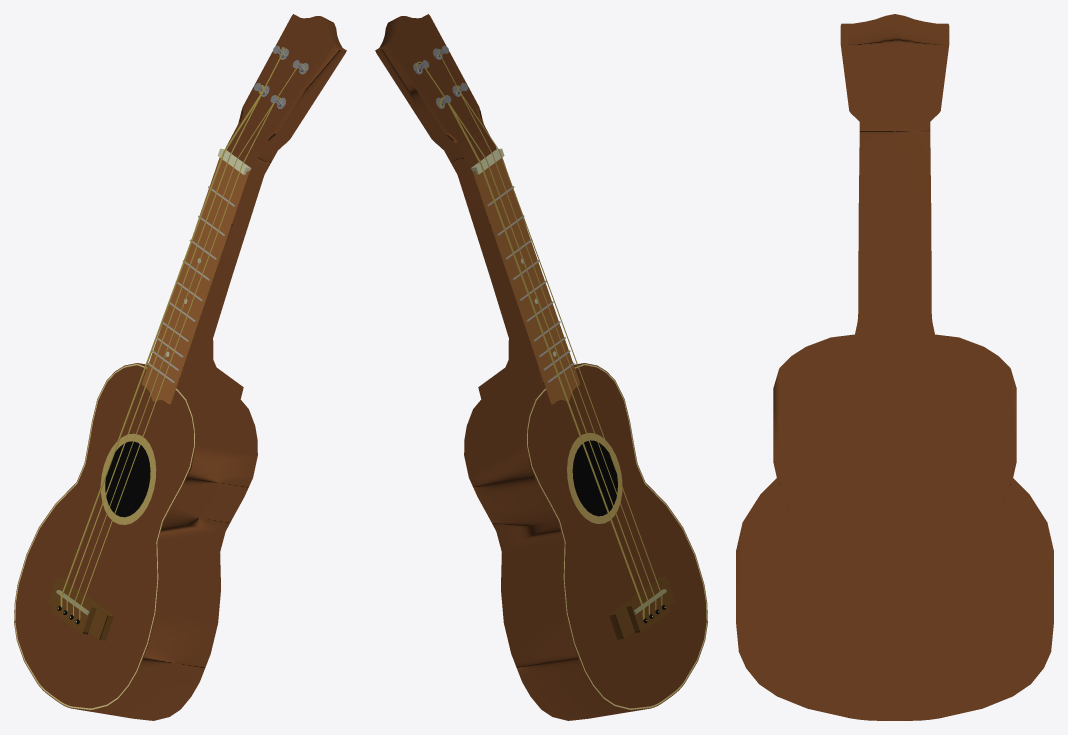
The model's file is ukeRender.obj.
The picture shows the model from 3 angles, left to right: view 1: azimuth 30°, elevation 25°; view 2: azimuth 150°, elevation 25°; view 3: azimuth 270°, elevation 25°; orthographic projection. The views are drawn at different scales.
Visible parts, largest first — view 1: strings; view 2: strings; view 3: strings.
Boxes of the visible parts, bbox=[...] form: strings: bbox=[14, 14, 346, 720]; strings: bbox=[375, 14, 707, 720]; strings: bbox=[736, 14, 1053, 720].
Bounding box in the file's own units: 1.8 × 3.94 × 1.36.
